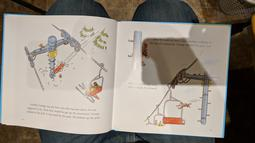text block: (23, 101, 103, 122), (144, 35, 214, 48), (126, 78, 161, 92)
